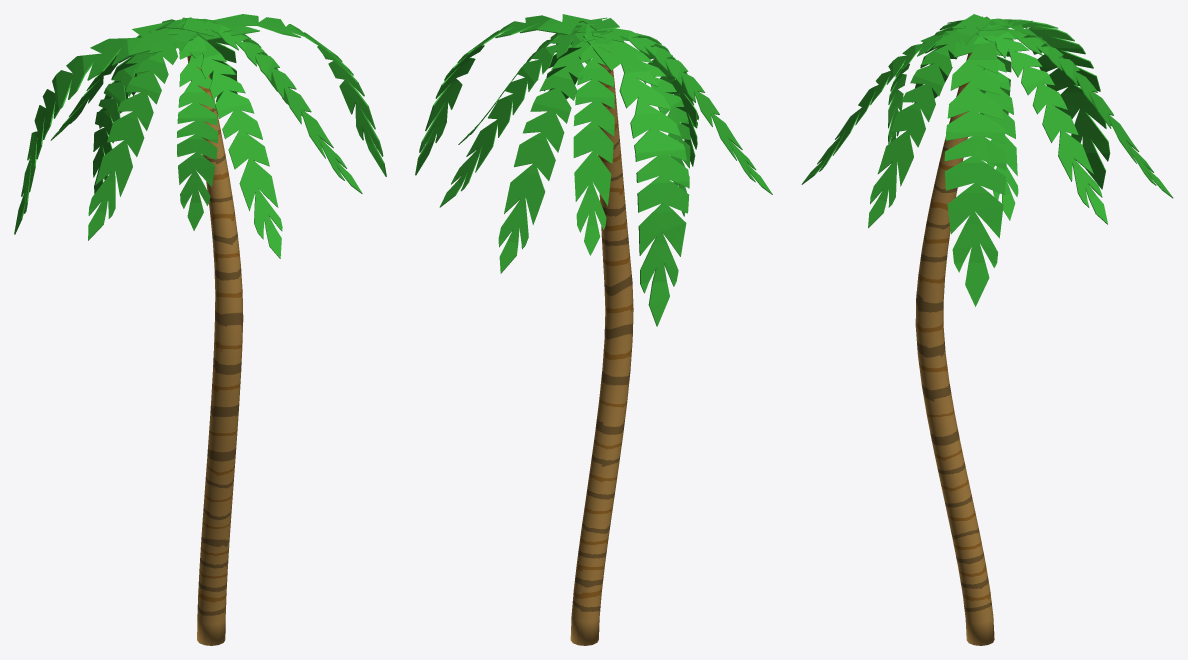
File: Palmera.fbx
The picture shows the model from 3 angles, left to right: view 1: azimuth 30°, elevation 25°; view 2: azimuth 150°, elevation 25°; view 3: azimuth 270°, elevation 25°; orthographic projection.
Parts seen in each view (by area): view 1: Palmera; view 2: Palmera; view 3: Palmera.
Boxes of the visible parts, x1,y1,x2,y2 form: Palmera: (14,14,386,645); Palmera: (415,14,772,645); Palmera: (801,14,1173,645).
Size of the model in its own units: 4.02 by 7.25 by 4.
Materials: 1 (1 with a texture image).
